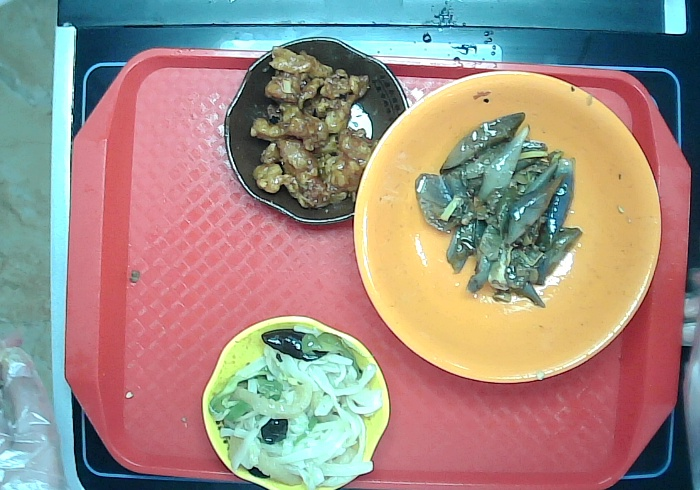YKMZ-Huang_Se_Ao_Bian_Wan: (202, 316, 393, 490)
YKMZ-Ju_Se_Tang_Wan: (351, 71, 661, 383)
YKMZ-Ka_Fei_Ao_Bian_Wan: (224, 32, 412, 230)
